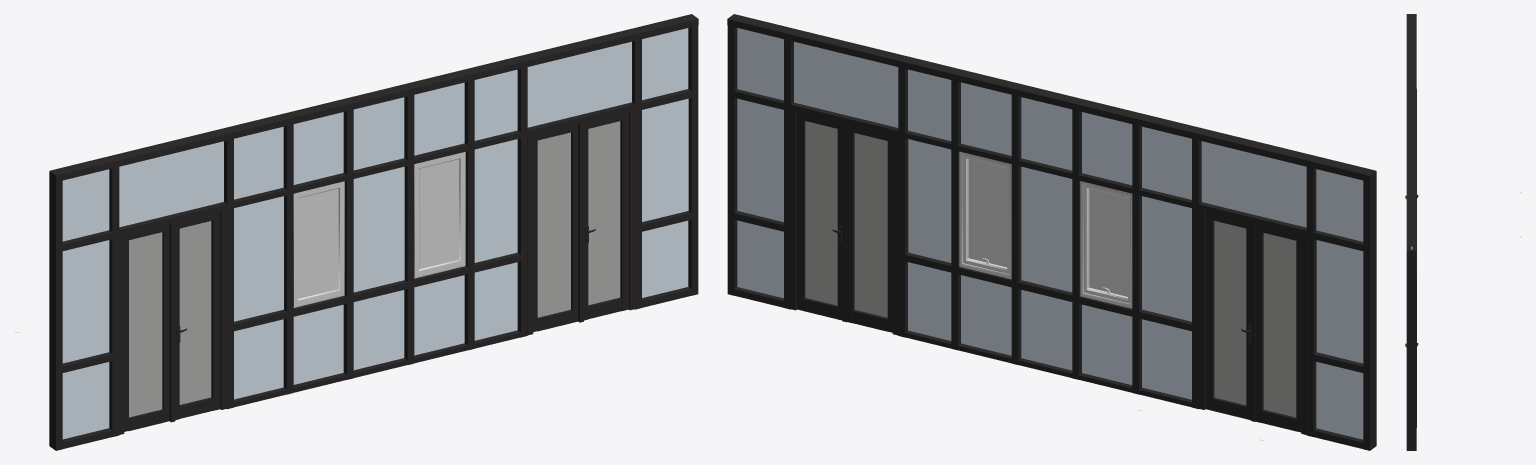
File: door_scale - Sao chép.fbx
3 renders of one model, left to right at view 1: azimuth 30°, elevation 25°; view 2: azimuth 150°, elevation 25°; view 3: azimuth 270°, elevation 25°, orthographic. The views are drawn at different scales.
Visible parts, largest first — view 1: Glass_Bottom_0.006, Glass_Bottom_0.005, Glass_Bottom_0.001, Frame_Horizontal_2.001, Plane.002, Plane.023, Glass_Top_0.004, Plane.020, Plane.004, Glass_Top_0, Glass_Top_0.002, Glass_Top_0.003 (+36 smaller); view 2: Glass_Bottom_0.006, Glass_Bottom_0.005, Glass_Bottom_0.001, Frame_Horizontal_2.001, Plane.002, Plane.023, Glass_Top_0.004, Plane.020, Plane.004, Glass_Top_0, Glass_Top_0.002, Glass_Top_0.003 (+38 smaller); view 3: Frame_Horizontal_2.001, Frame_Vertical_0.007, Plane.014.
Part boxes in pixels (bbox=[...]): Glass_Bottom_0.006: bbox=[62, 28, 688, 241]; Glass_Bottom_0.005: bbox=[293, 69, 517, 184]; Glass_Bottom_0.001: bbox=[293, 275, 464, 384]; Frame_Horizontal_2.001: bbox=[50, 14, 698, 181]; Plane.002: bbox=[129, 232, 162, 417]; Plane.023: bbox=[537, 132, 570, 317]; Glass_Top_0.004: bbox=[353, 166, 404, 292]; Plane.020: bbox=[588, 121, 620, 305]; Plane.004: bbox=[179, 221, 211, 404]; Glass_Top_0: bbox=[234, 196, 283, 321]; Glass_Top_0.002: bbox=[62, 240, 109, 363]; Glass_Top_0.003: bbox=[642, 98, 688, 221]; Glass_Bottom_0.006: bbox=[737, 28, 1363, 241]; Glass_Bottom_0.005: bbox=[908, 69, 1132, 185]; Glass_Bottom_0.001: bbox=[961, 275, 1132, 384]; Frame_Horizontal_2.001: bbox=[727, 14, 1375, 180]; Plane.002: bbox=[1263, 233, 1296, 417]; Plane.023: bbox=[854, 133, 887, 317]; Glass_Top_0.004: bbox=[1021, 166, 1072, 292]; Plane.020: bbox=[805, 121, 837, 305]; Plane.004: bbox=[1214, 221, 1246, 405]; Glass_Top_0: bbox=[1142, 196, 1191, 321]; Glass_Top_0.002: bbox=[1316, 240, 1363, 363]; Glass_Top_0.003: bbox=[737, 98, 783, 221]; Frame_Horizontal_2.001: bbox=[1406, 14, 1416, 248]; Frame_Vertical_0.007: bbox=[1406, 248, 1416, 450]; Plane.014: bbox=[1416, 274, 1416, 427].
Bounding box in the file's own units: 8.34 × 3.41 × 1.76.
